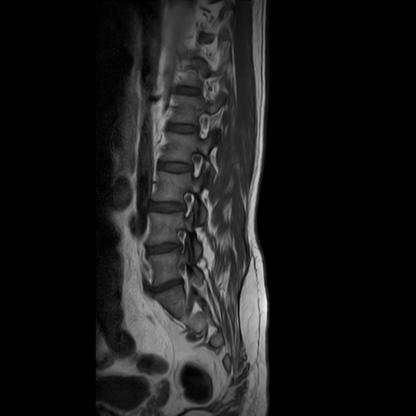Disc Bulgerotation: (145, 240, 182, 259), (151, 280, 184, 296)
